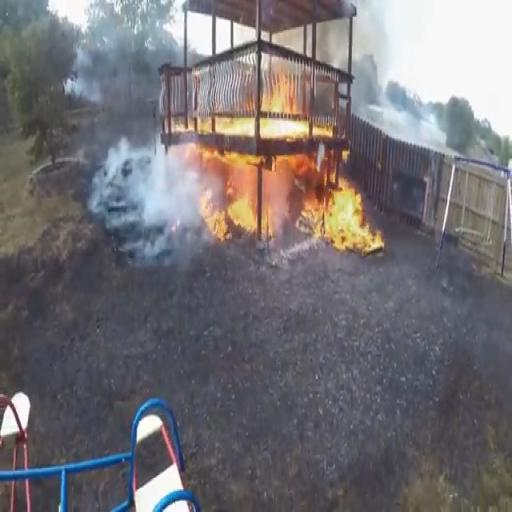fire: (331, 180, 368, 254), (225, 188, 257, 242)
smoke: (111, 144, 193, 230)
